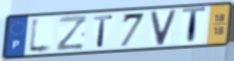7: (119, 13, 147, 48)
L: (27, 15, 54, 55)
T: (181, 6, 208, 46), (93, 14, 115, 48)
V: (149, 8, 179, 47)
Z: (55, 14, 89, 53)
